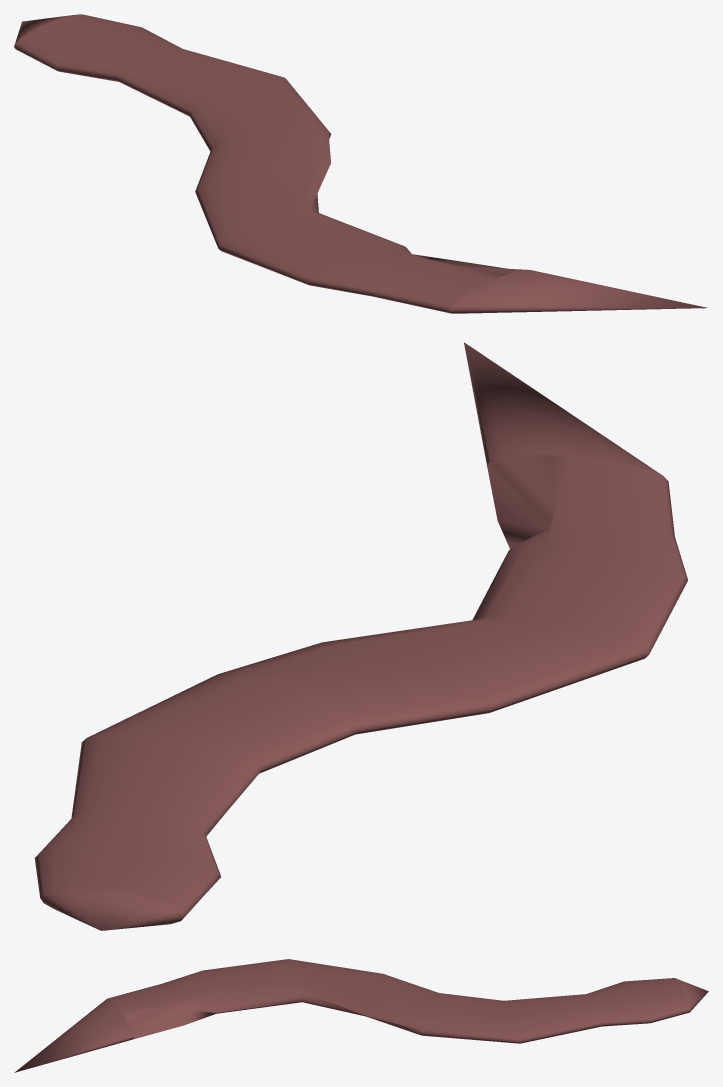
Rendered from SnakeSkin.fbx.
3 views of the same model, one above another, from view 1: azimuth 30°, elevation 25°; view 2: azimuth 150°, elevation 25°; view 3: azimuth 270°, elevation 25° (orthographic). The views are drawn at different scales.
Parts seen in each view (by area): view 1: pCylinder1; view 2: pCylinder1; view 3: pCylinder1.
Part boxes in pixels (bbox=[...]): pCylinder1: bbox=[14, 14, 707, 313]; pCylinder1: bbox=[34, 342, 687, 930]; pCylinder1: bbox=[14, 959, 708, 1072].
Size of the model in its own units: 6.75 by 0.4574 by 17.66.
